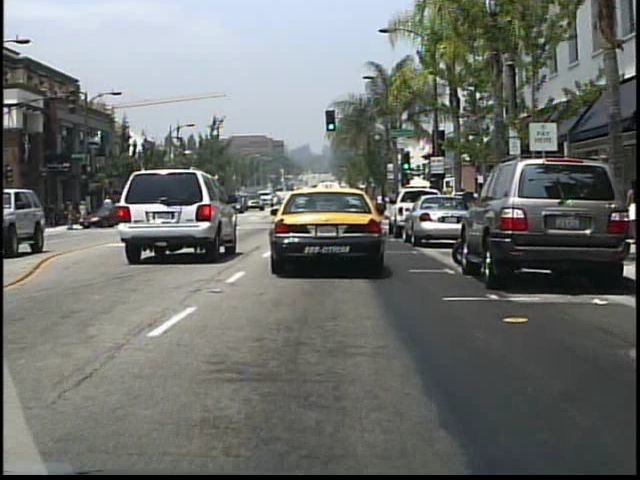person: (621, 180, 636, 244)
